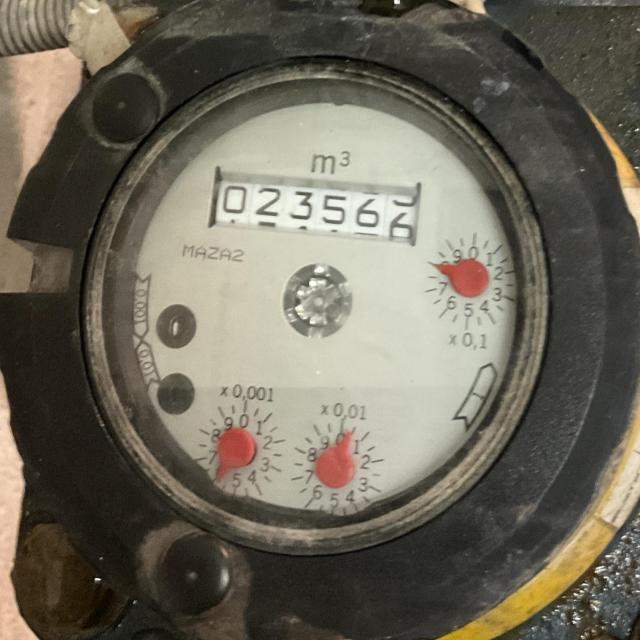gaz_meter: (80, 62, 532, 536)
indication: (208, 170, 422, 245)
